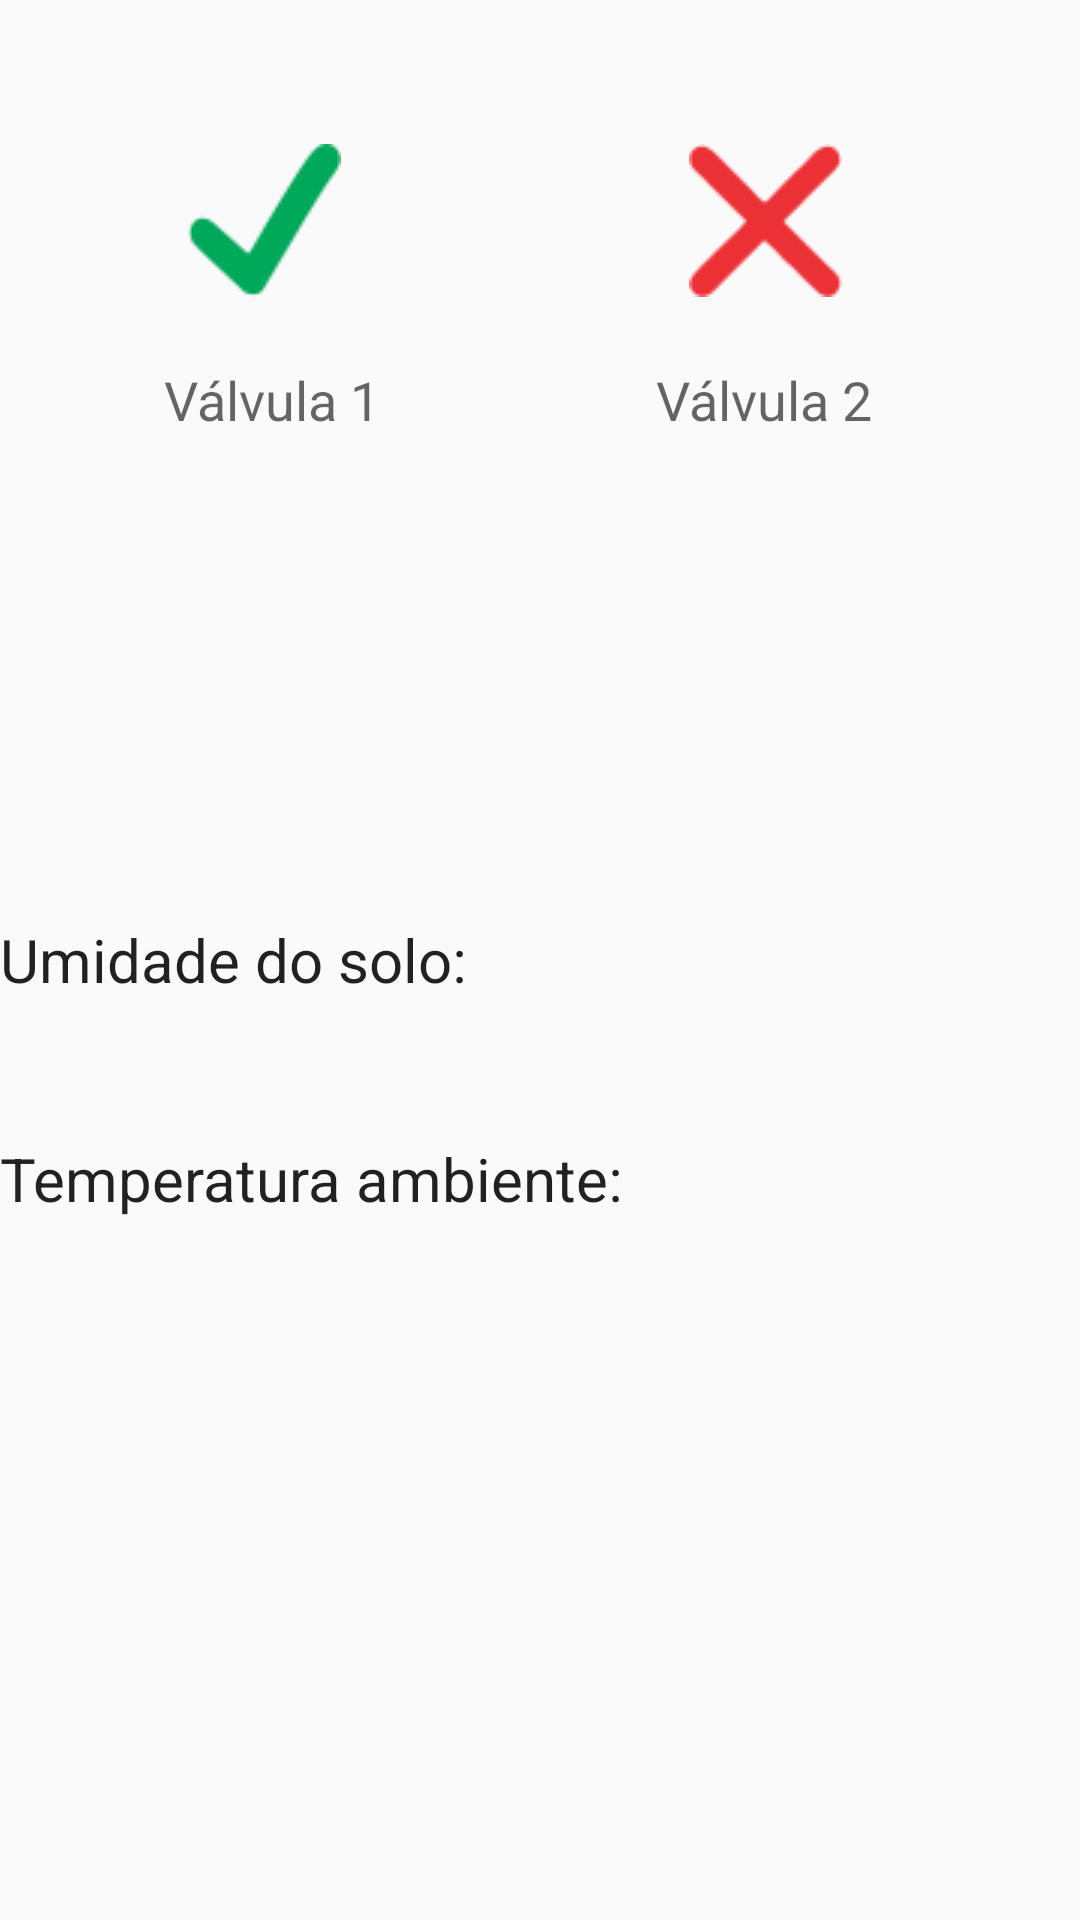

Where to tap for icons on this 1080x1920 app screen, as [x,y]:
check: [264,219]
uncheck: [765,220]
